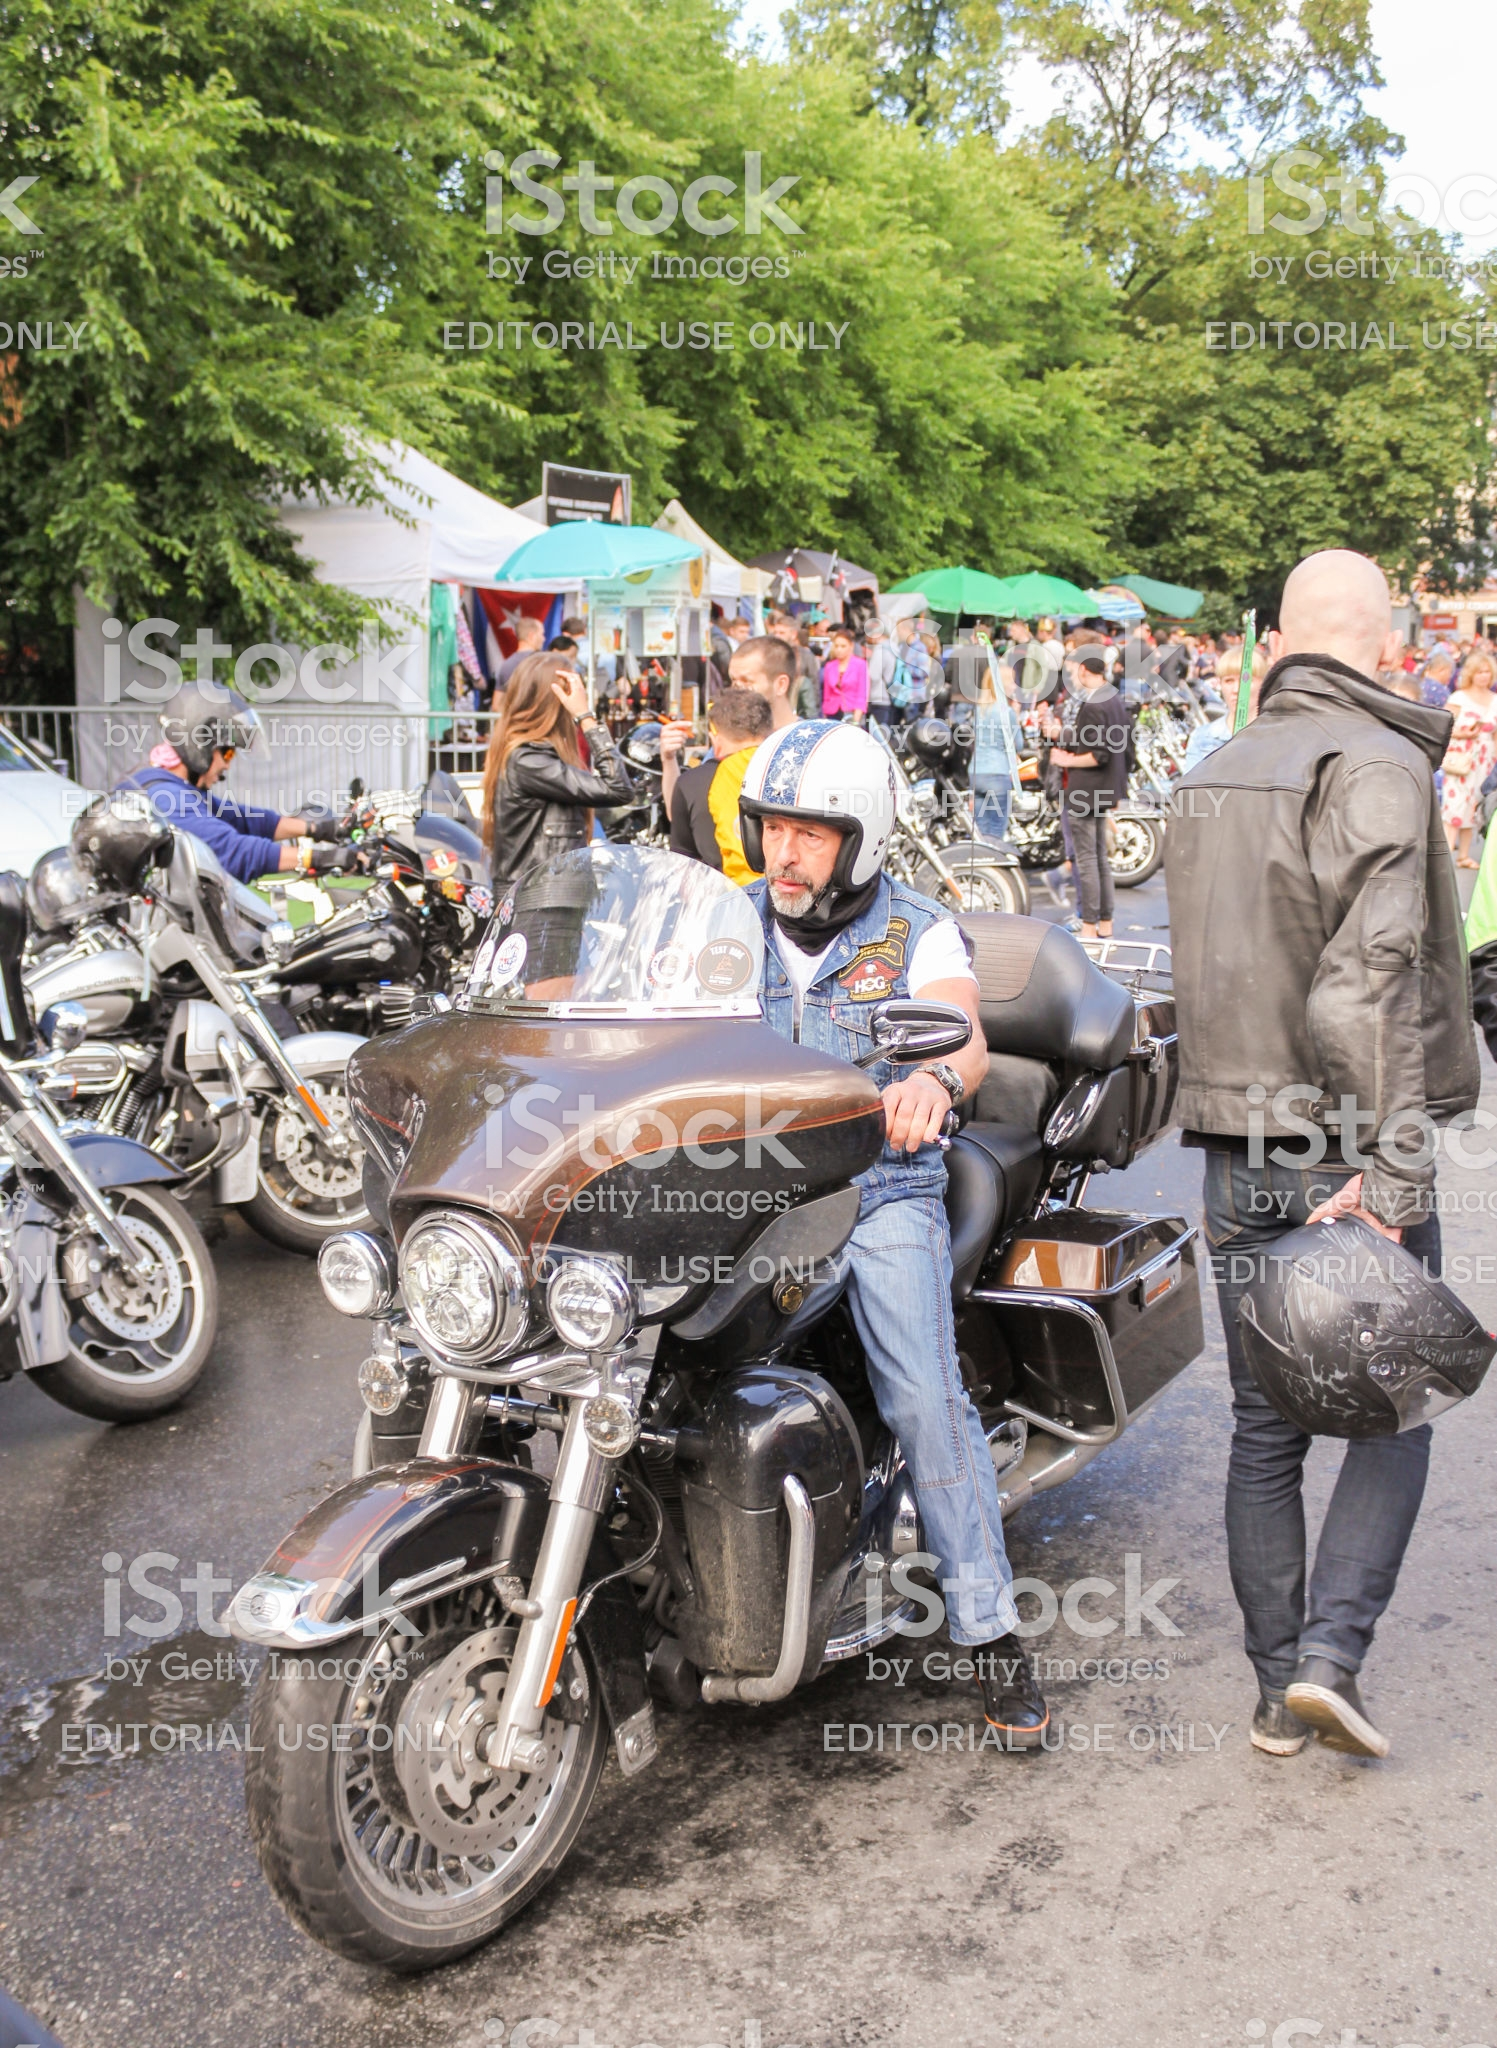helmet: (729, 712, 920, 887)
